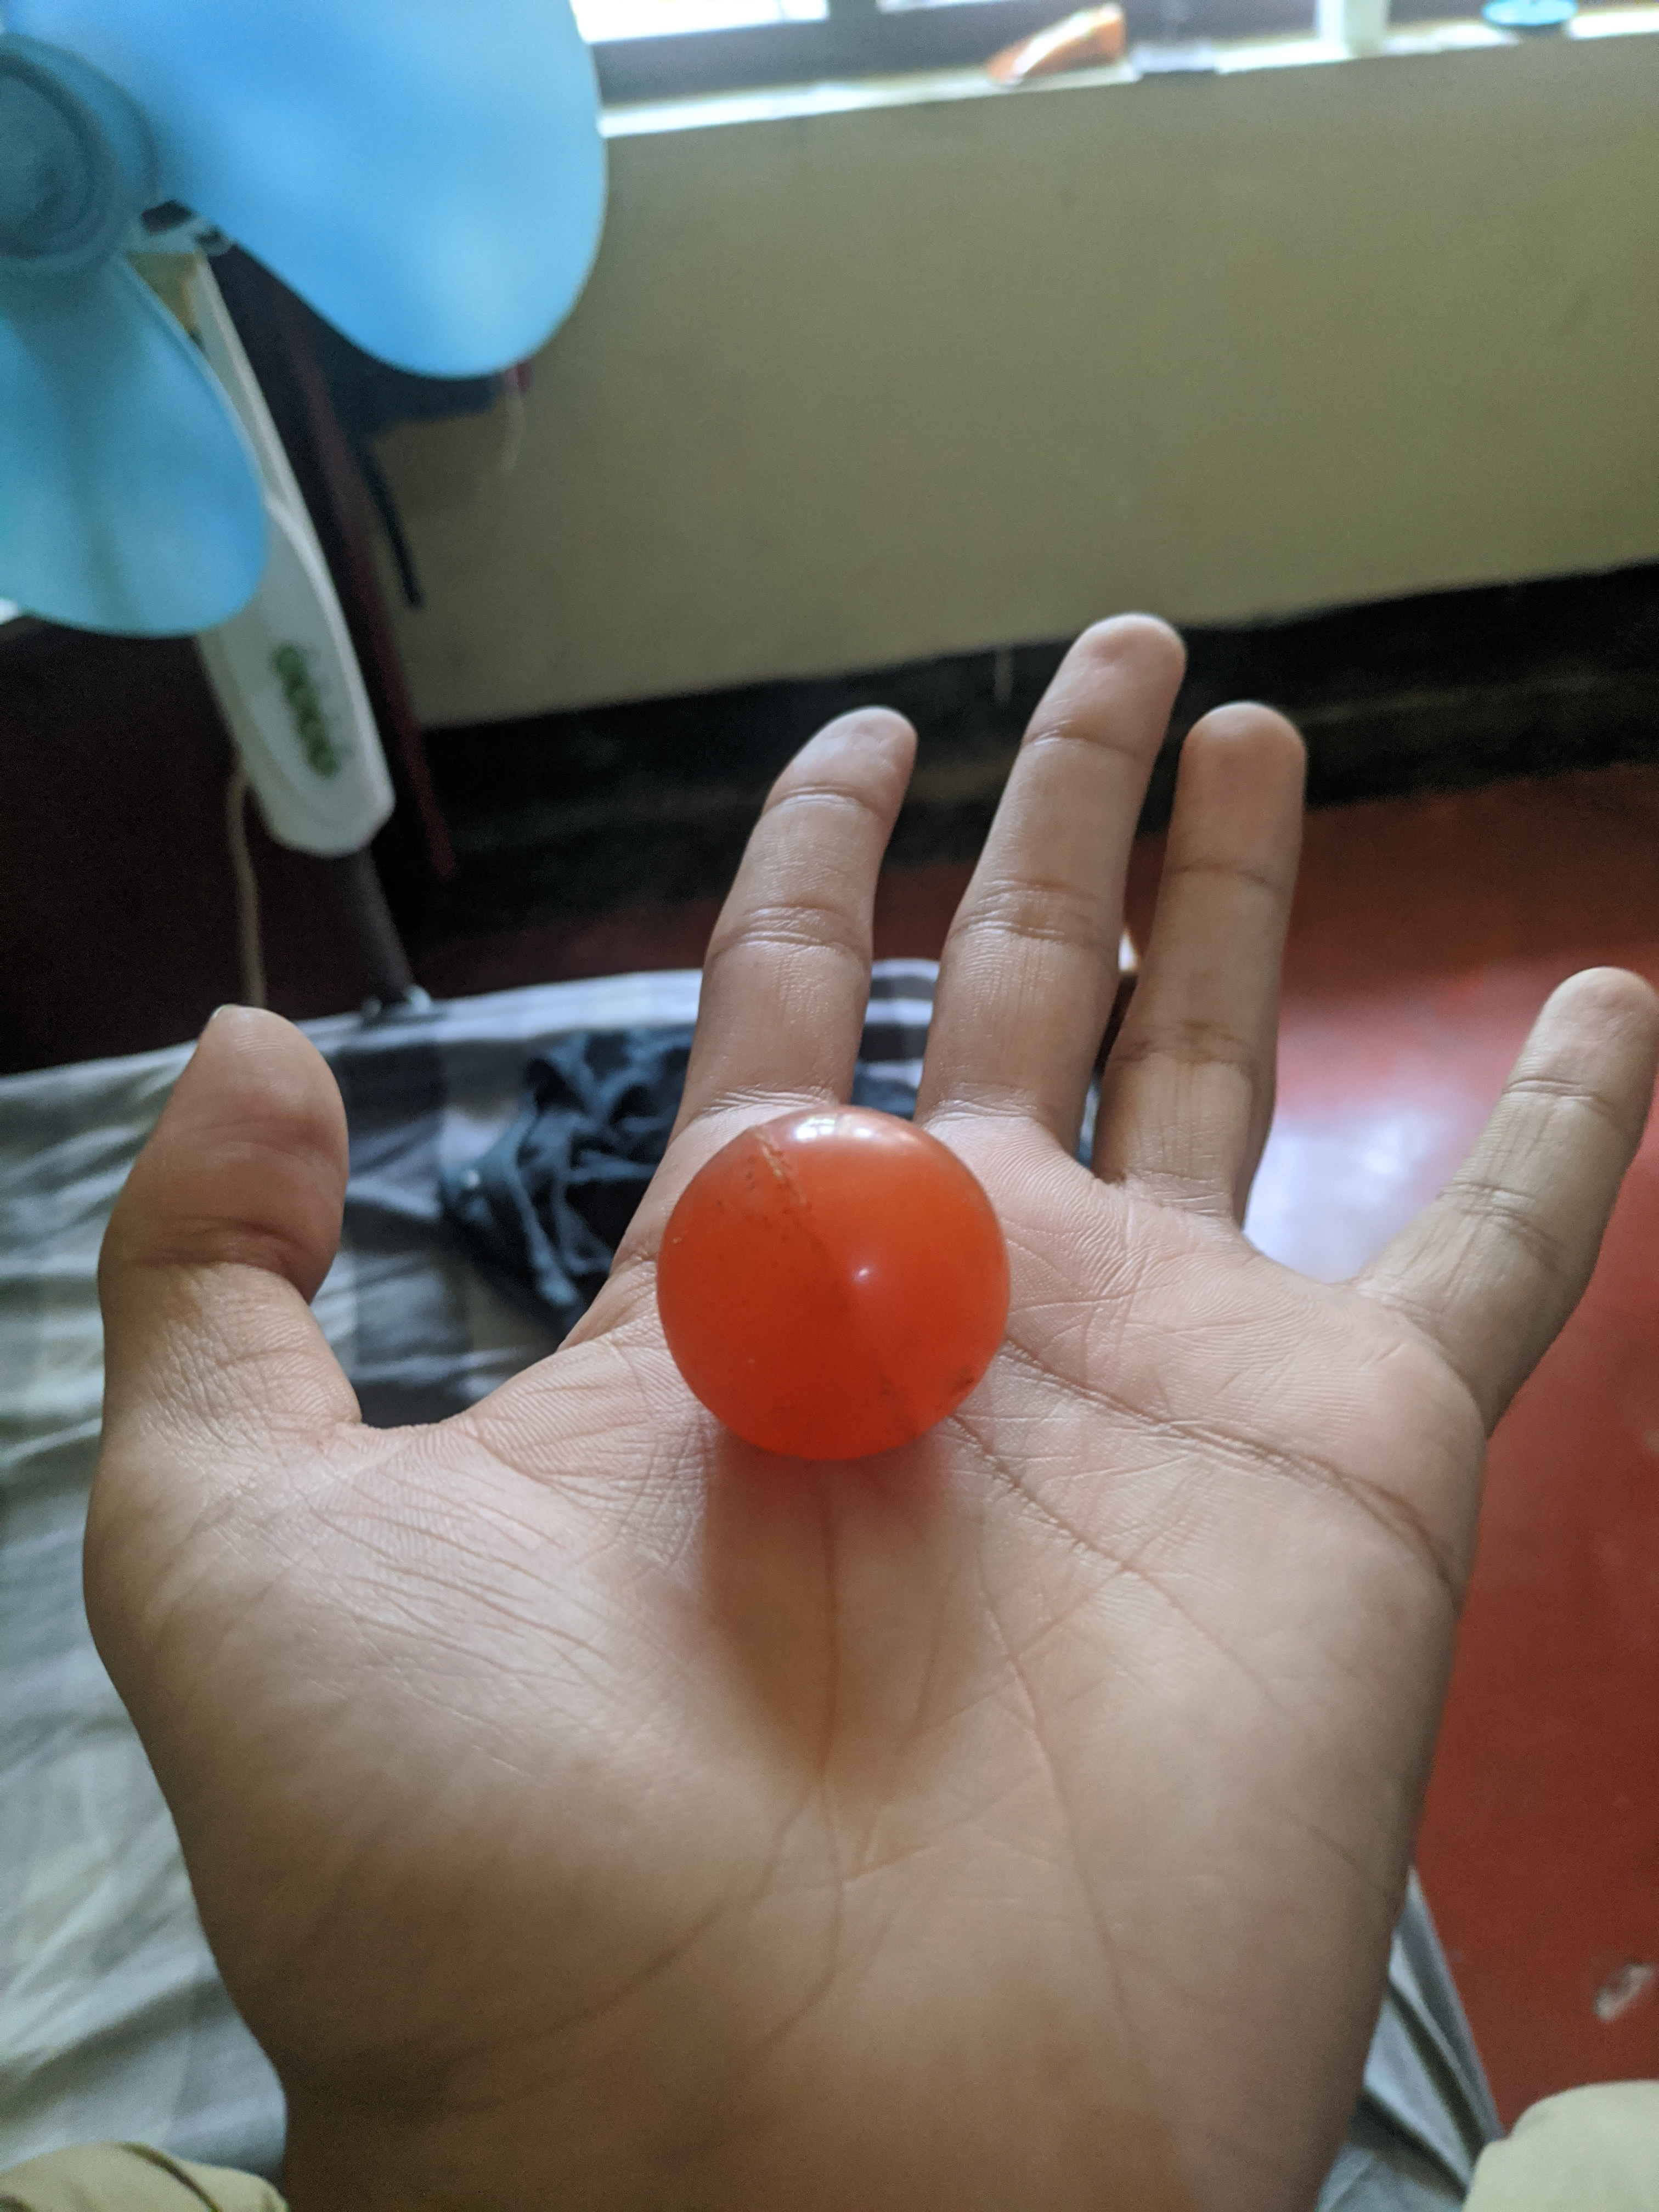red_ball: (640, 1075, 1025, 1484)
